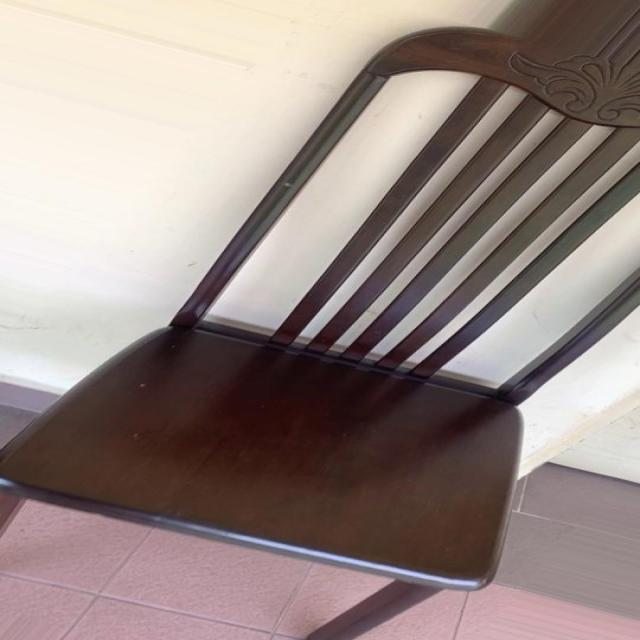Chair: (4, 3, 640, 640)
